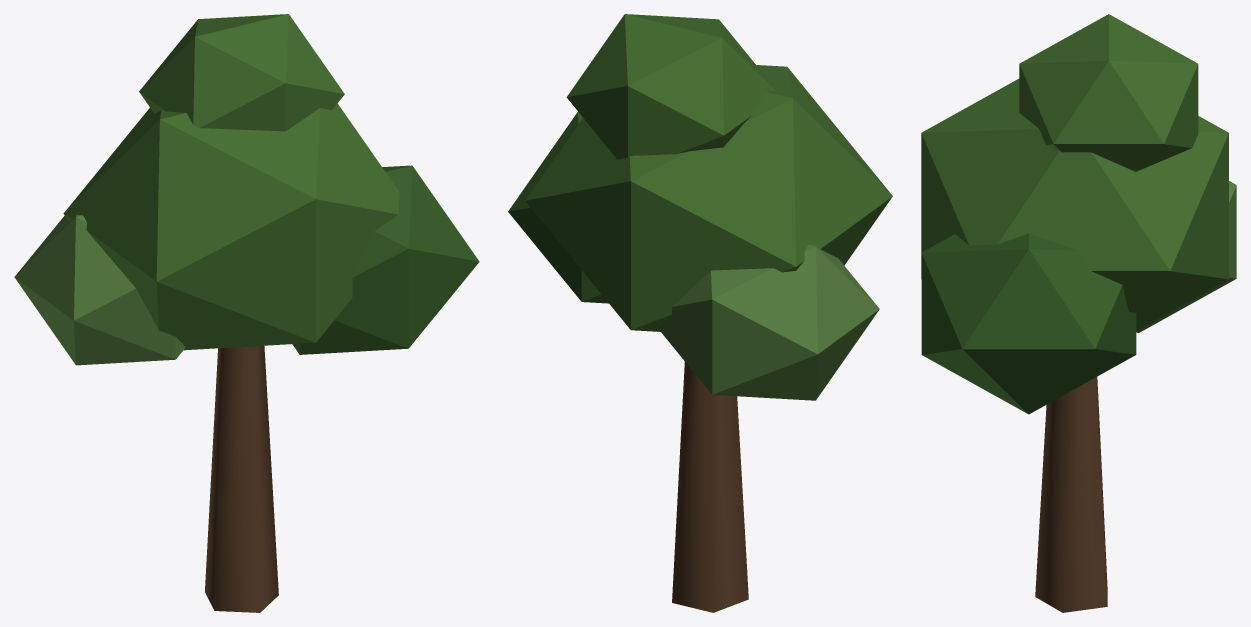
File: broadleaf.glb
3 views of the same model, side by side, from view 1: azimuth 30°, elevation 25°; view 2: azimuth 150°, elevation 25°; view 3: azimuth 270°, elevation 25° (orthographic). The views are drawn at different scales.
Visible parts, largest first — view 1: broadleaf; view 2: broadleaf; view 3: broadleaf.
Boxes of the visible parts, x1,y1,x2,y2 form: broadleaf: [14, 14, 479, 612]; broadleaf: [508, 14, 892, 612]; broadleaf: [921, 14, 1236, 612].
Size of the model in its own units: 1.96 by 2.98 by 1.5.
